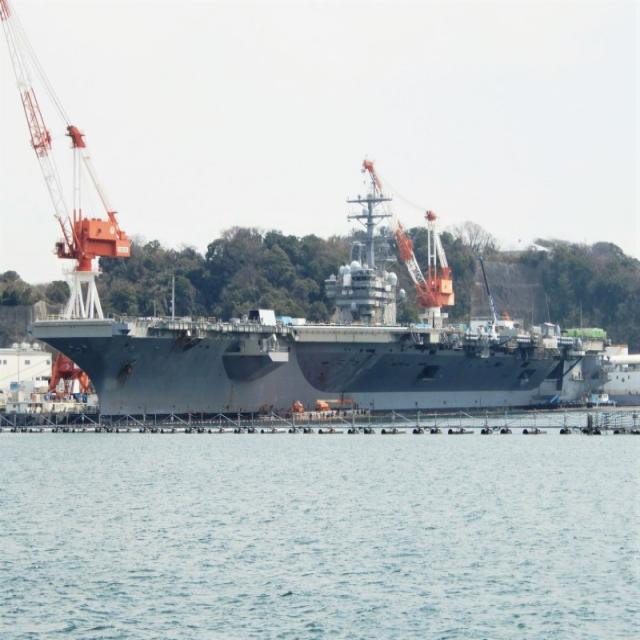Portanaves: (28, 178, 618, 432)
